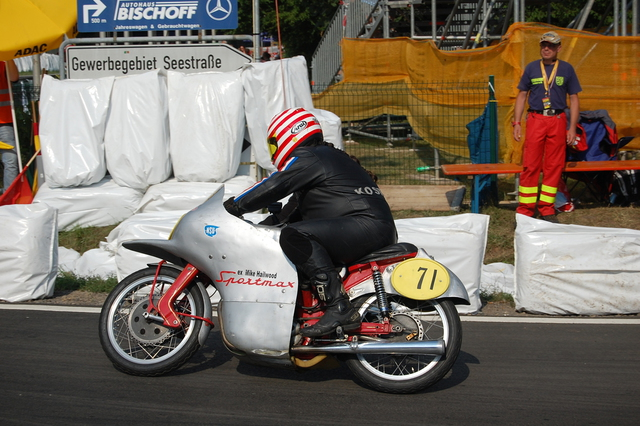helmet: (261, 112, 328, 156)
